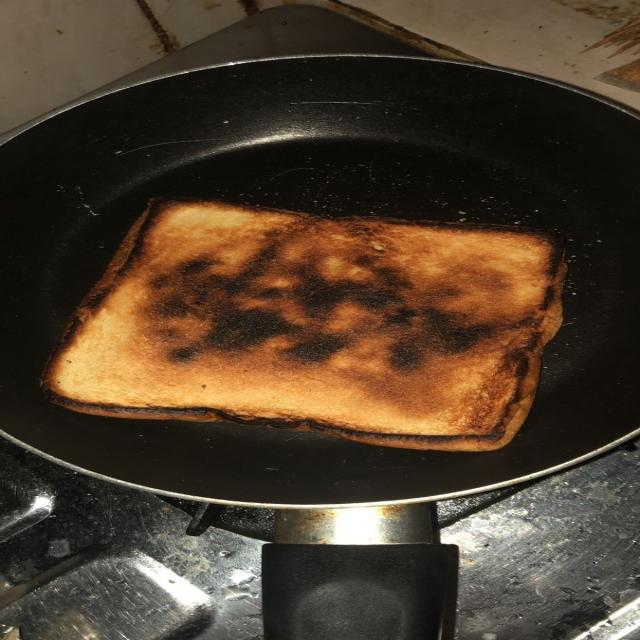toast bread: (42, 199, 565, 450)
